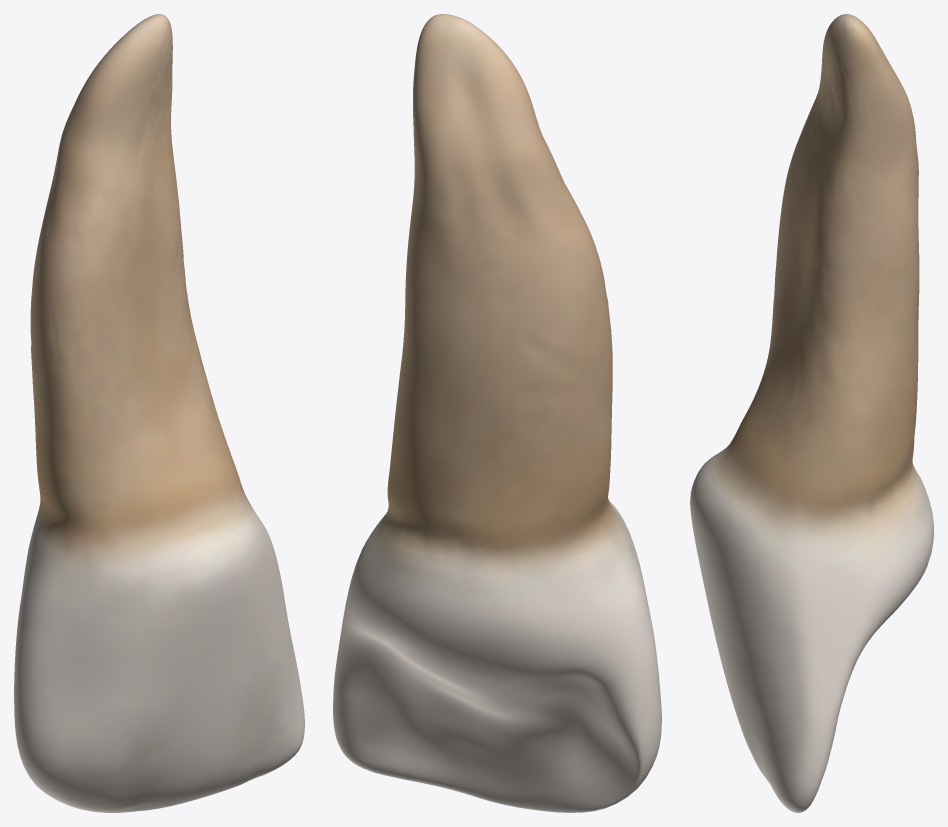
The picture shows the model from 3 angles, left to right: view 1: azimuth 30°, elevation 25°; view 2: azimuth 150°, elevation 25°; view 3: azimuth 270°, elevation 25°; orthographic projection. The views are drawn at different scales.
Parts seen in each view (by area): view 1: diente-51; view 2: diente-51; view 3: diente-51.
Boxes of the visible parts, x1,y1,x2,y2 form: diente-51: (14,14,304,812); diente-51: (333,14,661,812); diente-51: (690,14,933,812).
Bounding box in the file's own units: 0.00642 × 0.016 × 0.00469.
Materials: 1 (1 with a texture image).
